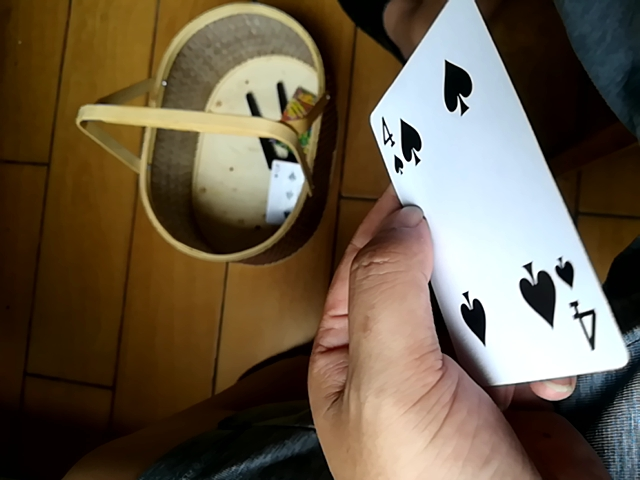ht 4: (359, 11, 624, 409)
